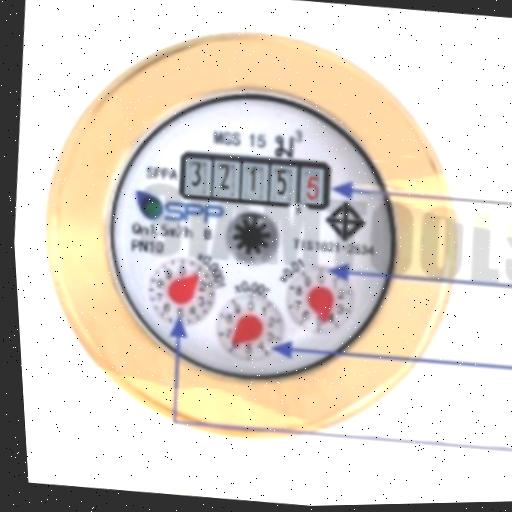1: (243, 166, 265, 200)
2: (215, 164, 235, 198)
3: (186, 162, 208, 197)
5: (273, 170, 293, 203), (303, 172, 323, 204)
border_water_meter_number: (176, 147, 334, 215)
